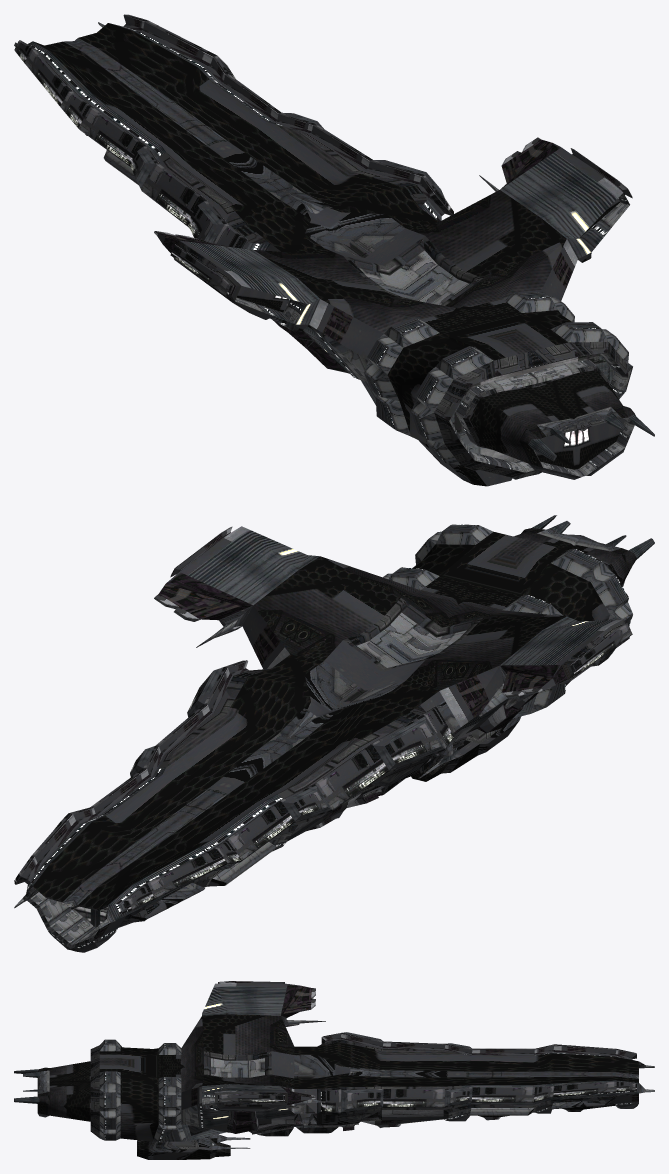
File: ts3modd_prototype.fbx
3 views of the same model, one above another, from view 1: azimuth 30°, elevation 25°; view 2: azimuth 150°, elevation 25°; view 3: azimuth 270°, elevation 25° (orthographic). The views are drawn at different scales.
Visible parts, largest first — view 1: ts3modd_prototype; view 2: ts3modd_prototype; view 3: ts3modd_prototype.
Boxes of the visible parts, <box> form: ts3modd_prototype: <box>14,14,654,486</box>; ts3modd_prototype: <box>14,515,654,952</box>; ts3modd_prototype: <box>14,981,654,1159</box>.
Size of the model in its own units: 465 by 223 by 1086.
Materials: 1 (1 with a texture image).
